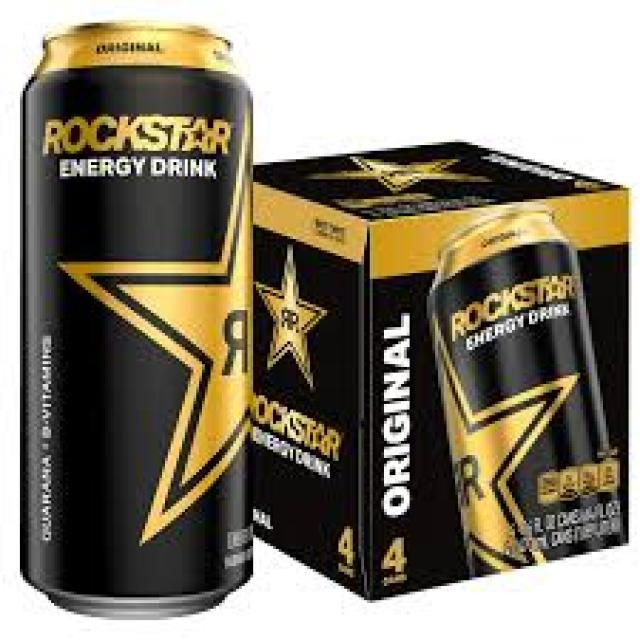Cans: (11, 14, 273, 620)
